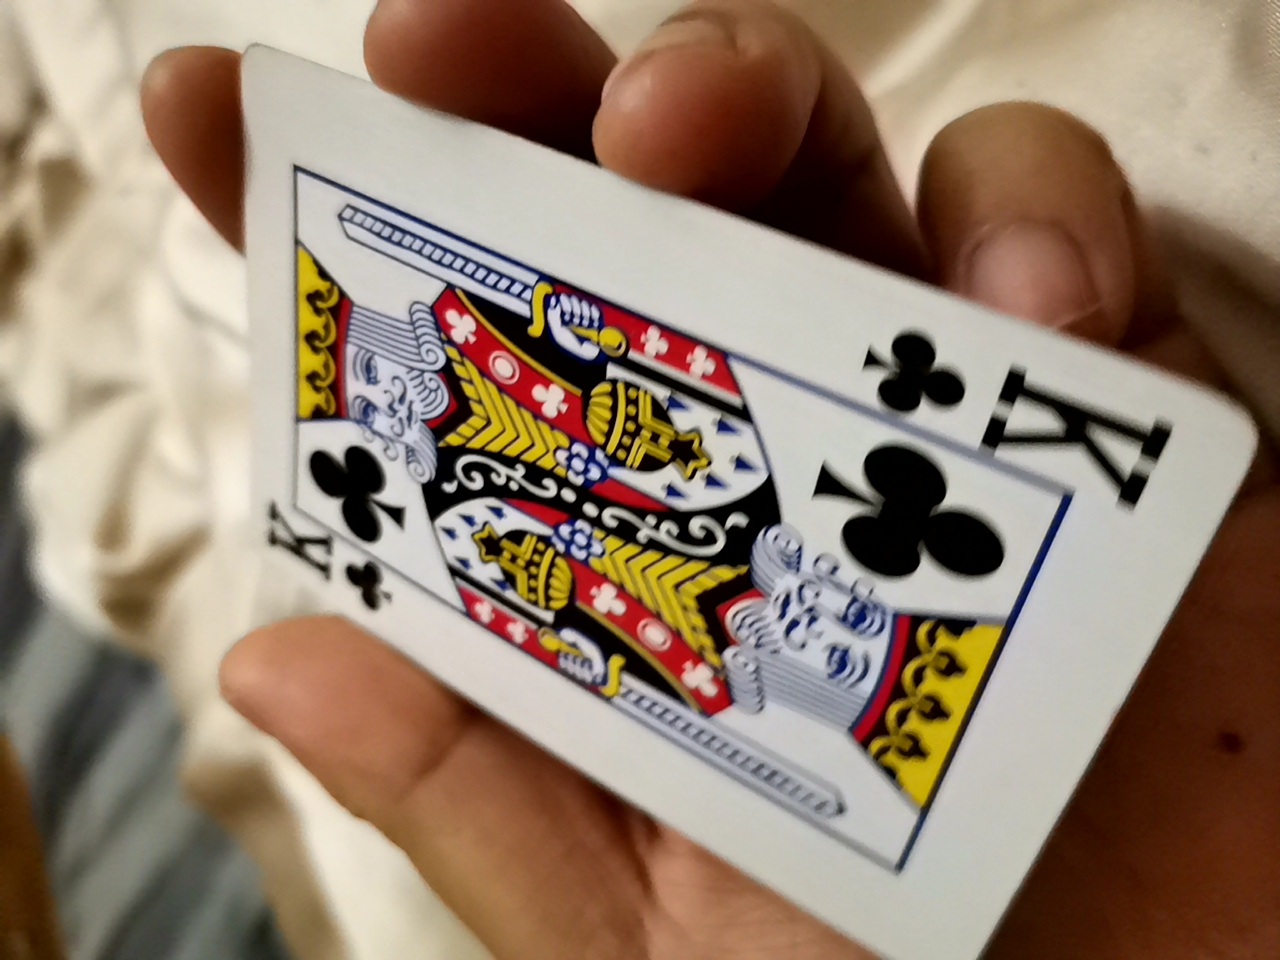mh k: (216, 85, 1247, 948)
